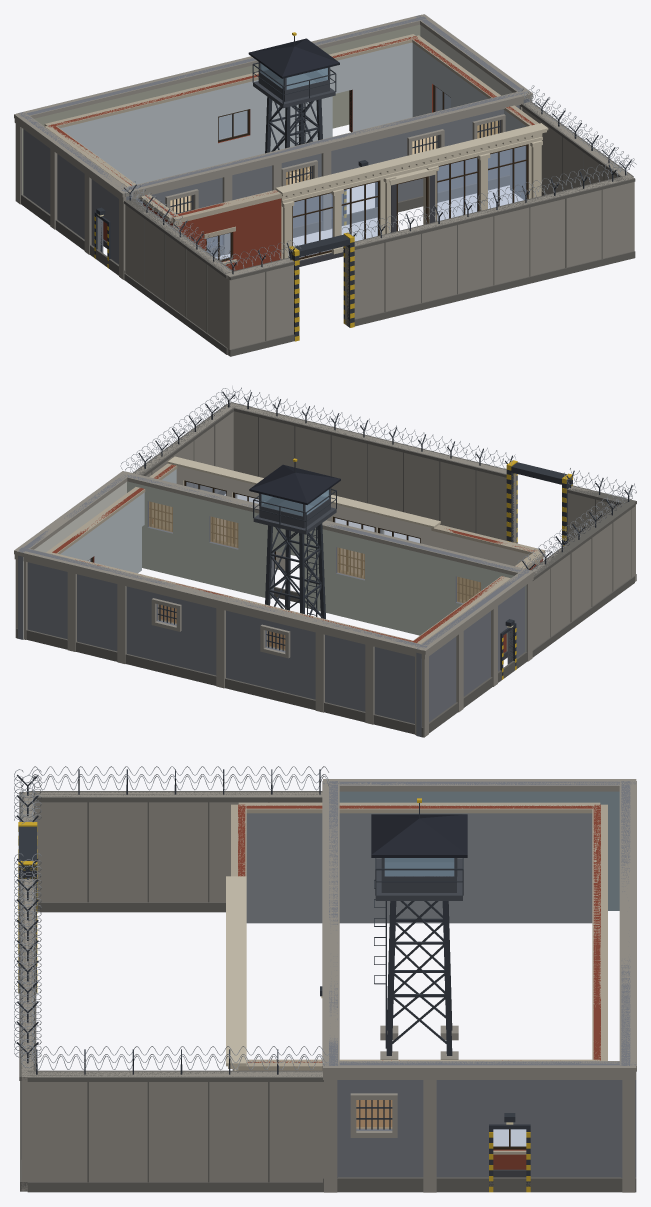
The model's file is epuletek.glb.
The picture shows the model from 3 angles, top to bottom: view 1: azimuth 30°, elevation 25°; view 2: azimuth 150°, elevation 25°; view 3: azimuth 270°, elevation 25°; orthographic projection. The views are drawn at different scales.
Visible parts, largest first — view 1: PR_perim_far, BK_wall_front, BK_wall_back, PR_wall_front, PR_wall_left, PR_perim_west, PR_wall_back, PR_tower, BK_wall_right, PR_perim_east, PR_wall_right, BK_wall_left; view 2: PR_wall_back, PR_wall_front, PR_perim_far, PR_wall_left, PR_perim_west, PR_tower, BK_wall_front, BK_wall_right, PR_perim_east, PR_wall_right, BK_wall_left, BK_wall_back; view 3: PR_wall_right, PR_perim_east, BK_wall_left, PR_perim_west, PR_tower, PR_perim_far, PR_wall_left, PR_wall_back, PR_wall_front, BK_wall_front, BK_wall_back, BK_wall_right.
Boxes of the visible parts, x1,y1,x2,y2 form: PR_perim_far: [223, 158, 636, 356]; BK_wall_front: [170, 123, 548, 270]; BK_wall_back: [44, 34, 417, 184]; PR_wall_front: [121, 90, 530, 256]; PR_wall_left: [14, 112, 131, 279]; PR_perim_west: [121, 181, 237, 354]; PR_wall_back: [18, 14, 426, 194]; PR_tower: [248, 32, 339, 184]; BK_wall_right: [412, 35, 538, 199]; PR_perim_east: [518, 85, 634, 195]; PR_wall_right: [415, 14, 532, 111]; BK_wall_left: [45, 124, 178, 248]; PR_wall_back: [16, 547, 427, 734]; PR_wall_front: [120, 471, 531, 651]; PR_perim_far: [226, 386, 636, 581]; PR_wall_left: [416, 569, 534, 737]; PR_perim_west: [517, 486, 636, 657]; PR_tower: [249, 458, 340, 619]; BK_wall_front: [167, 456, 545, 600]; BK_wall_right: [46, 463, 177, 573]; PR_perim_east: [120, 388, 239, 495]; PR_wall_right: [14, 471, 129, 639]; BK_wall_left: [412, 551, 545, 659]; BK_wall_back: [49, 552, 418, 648]; PR_wall_right: [323, 1061, 636, 1192]; PR_perim_east: [27, 1046, 329, 1192]; BK_wall_left: [238, 802, 600, 923]; PR_perim_west: [28, 766, 329, 912]; PR_tower: [371, 798, 467, 1059]; PR_perim_far: [14, 769, 41, 1191]; PR_wall_left: [323, 779, 636, 910]; PR_wall_back: [619, 781, 636, 1177]; PR_wall_front: [320, 781, 339, 1177]; BK_wall_front: [226, 804, 246, 1070]; BK_wall_back: [592, 804, 607, 1060]; BK_wall_right: [238, 1059, 600, 1177].
Bounding box in the file's own units: 22.9 × 9.15 × 20.68.
